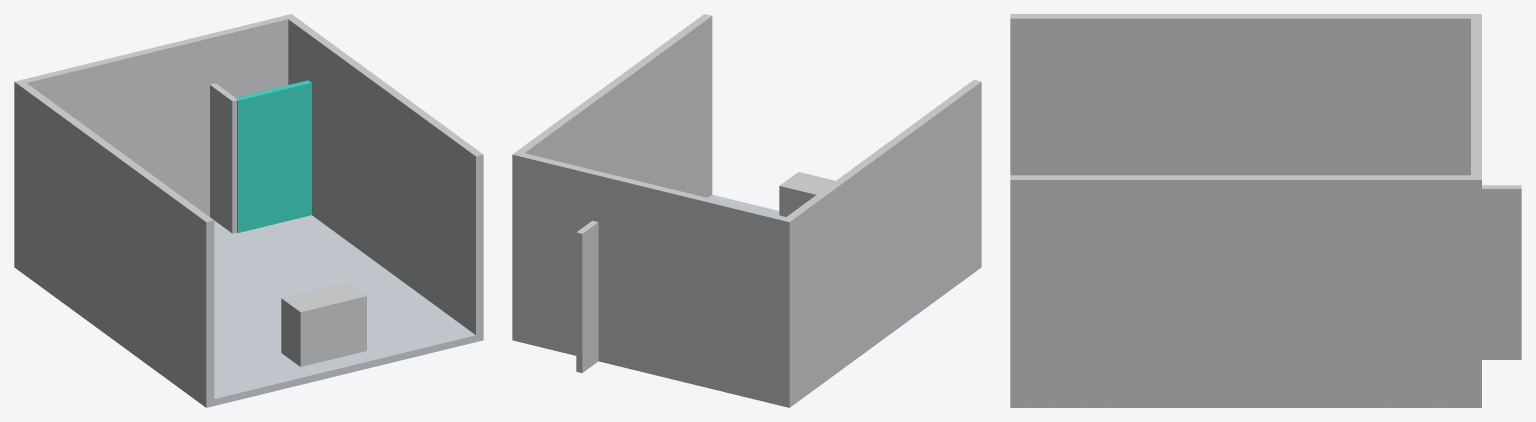
The picture shows the model from 3 angles, left to right: view 1: azimuth 30°, elevation 25°; view 2: azimuth 150°, elevation 25°; view 3: azimuth 270°, elevation 25°; orthographic projection. The views are drawn at different scales.
Visible parts, largest first — view 1: Exhibition Booth Concept; view 2: Exhibition Booth Concept; view 3: Exhibition Booth Concept.
Part boxes in pixels (bbox=[...]): Exhibition Booth Concept: bbox=[14, 14, 483, 407]; Exhibition Booth Concept: bbox=[512, 14, 981, 407]; Exhibition Booth Concept: bbox=[1010, 14, 1521, 407].
Bounding box in the file's own units: 5 × 3.2 × 6.51.
